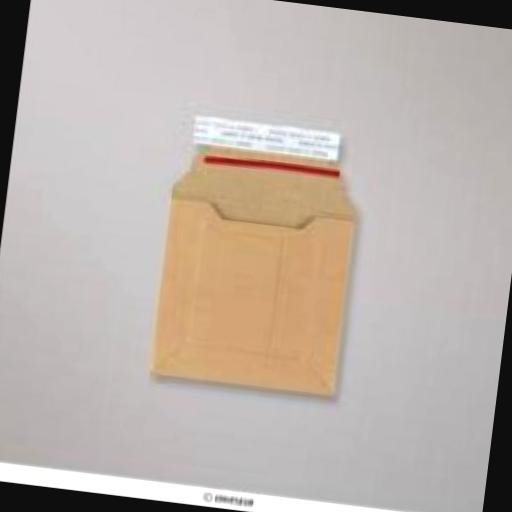cardboard: (144, 112, 366, 394)
